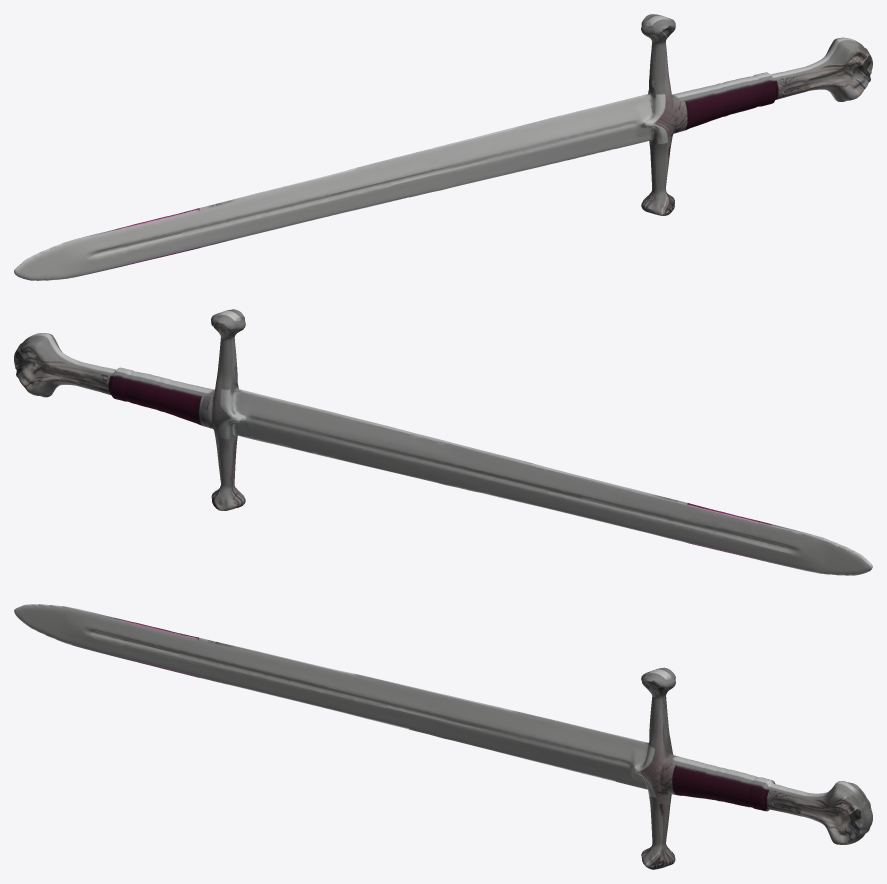
File: medieval-sword.glb
3 renders of one model, top to bottom at view 1: azimuth 30°, elevation 25°; view 2: azimuth 150°, elevation 25°; view 3: azimuth 330°, elevation 25°, orthographic.
Visible parts, largest first — view 1: tripo_node_79d6a9b4-fe5b-4851-a4e6-fd036c5b2217; view 2: tripo_node_79d6a9b4-fe5b-4851-a4e6-fd036c5b2217; view 3: tripo_node_79d6a9b4-fe5b-4851-a4e6-fd036c5b2217.
Part boxes in pixels (<box>): tripo_node_79d6a9b4-fe5b-4851-a4e6-fd036c5b2217: <box>14,14,872,280</box>; tripo_node_79d6a9b4-fe5b-4851-a4e6-fd036c5b2217: <box>14,309,872,575</box>; tripo_node_79d6a9b4-fe5b-4851-a4e6-fd036c5b2217: <box>14,604,872,869</box>.
Size of the model in its own units: 1 by 0.2183 by 0.0371.
Materials: 1 (1 with a texture image).
